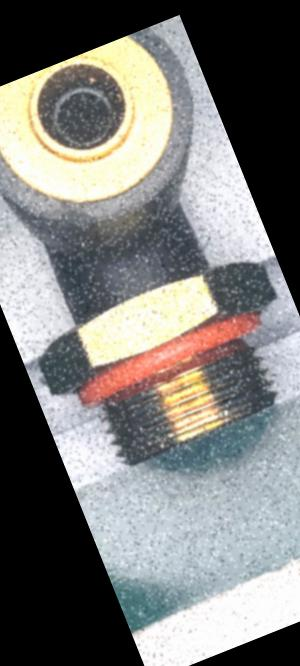bump: (38, 191, 102, 242)
joint line: (120, 247, 150, 295)
